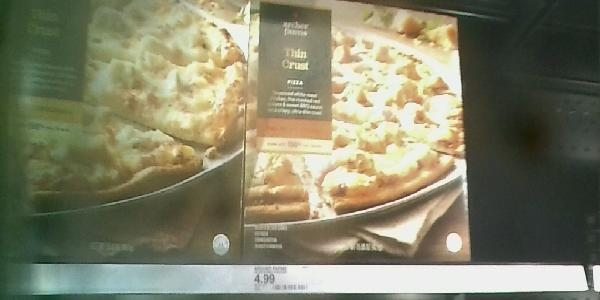pizza1: (1, 1, 249, 265), (242, 1, 476, 264)
